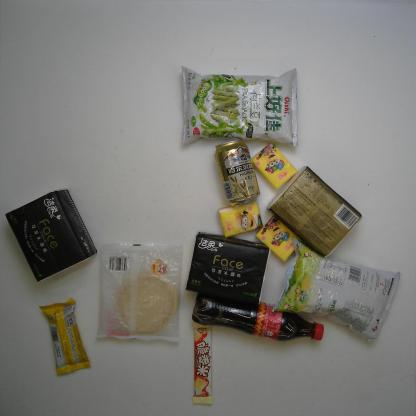Alcohol: (214, 134, 262, 207)
Chocolate: (36, 298, 94, 378), (190, 317, 214, 408)
Dessert: (93, 240, 185, 346)
Drink: (188, 286, 326, 343)
Puffed Food: (270, 235, 404, 344), (179, 60, 303, 150)
Tissue: (4, 189, 100, 286), (265, 163, 362, 258), (185, 232, 270, 306), (253, 211, 307, 265), (248, 140, 299, 192), (214, 197, 265, 239)
